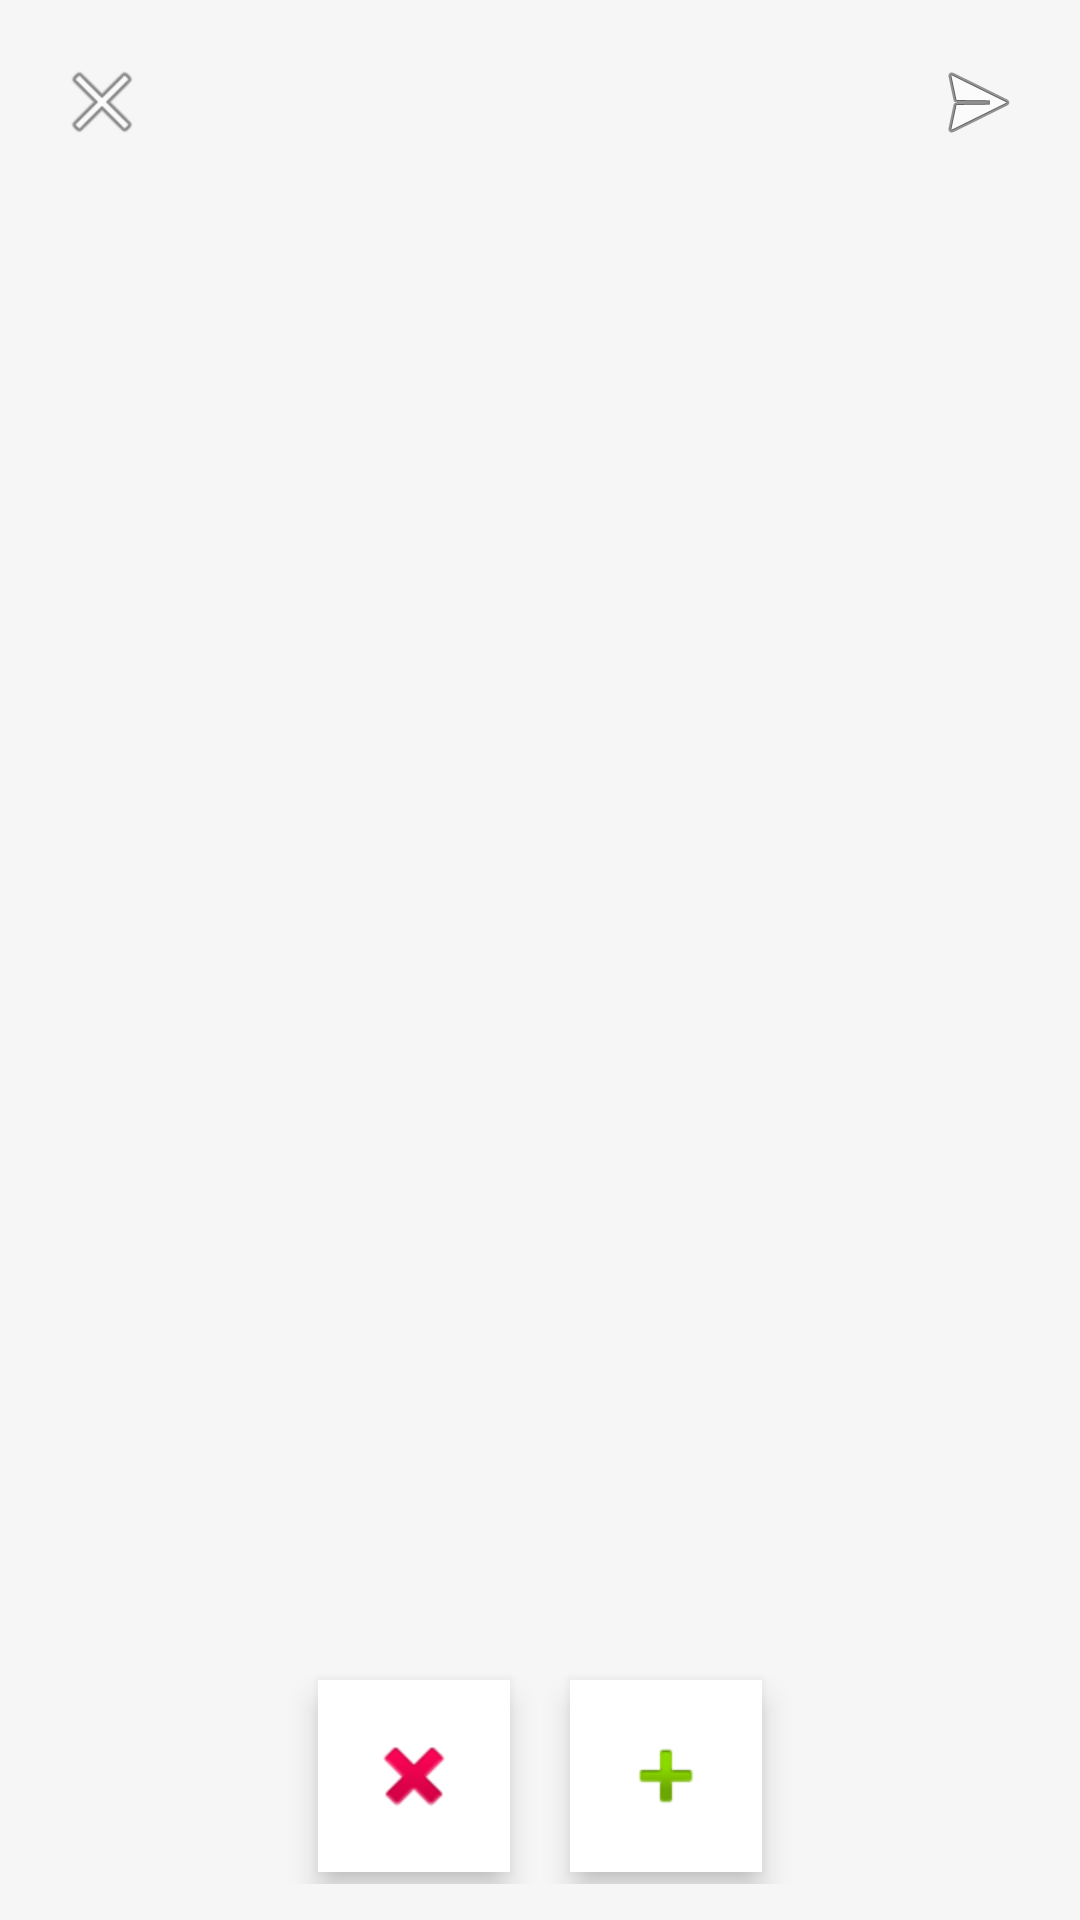

Locate icon controls on the screen. Image size 1080*1920, boxes as BBox(x1, y1, x2, y2).
Like: BBox(570, 1680, 762, 1872)
Nope: BBox(318, 1680, 510, 1872)
